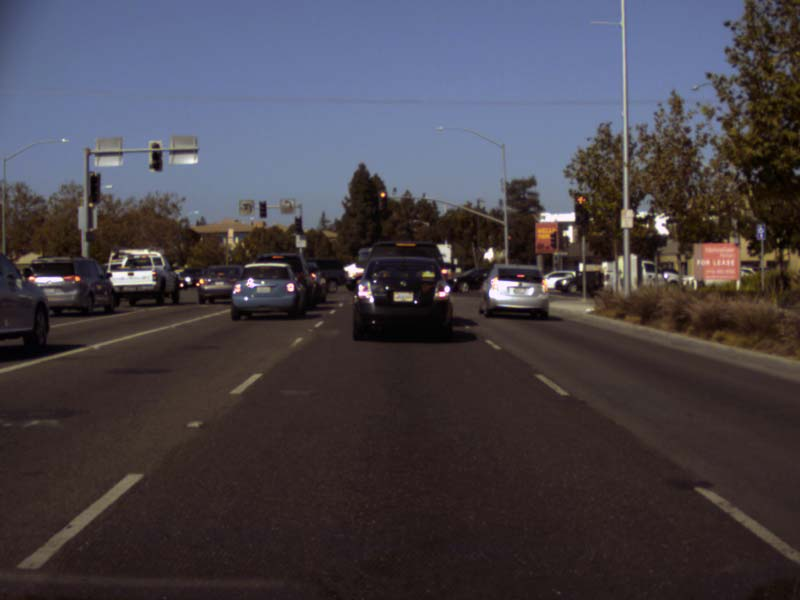Red: (574, 193, 586, 221), (377, 189, 386, 210), (507, 234, 511, 246)
Yellow: (86, 197, 94, 214)
